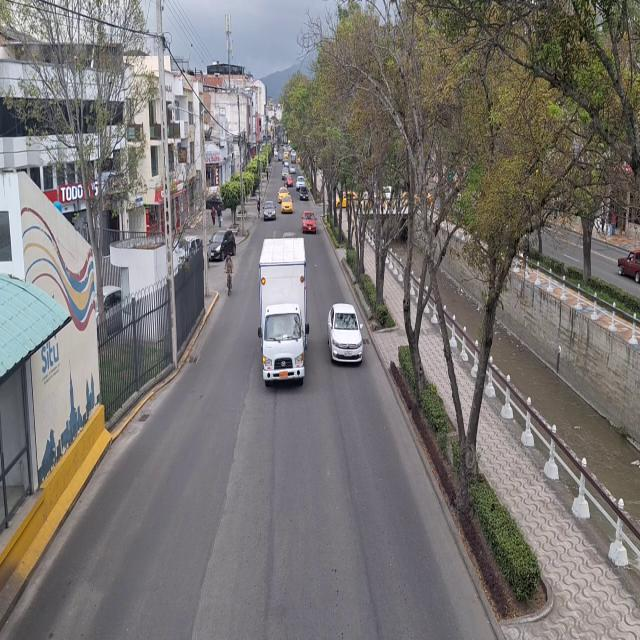TRUCK: (258, 237, 307, 389)
